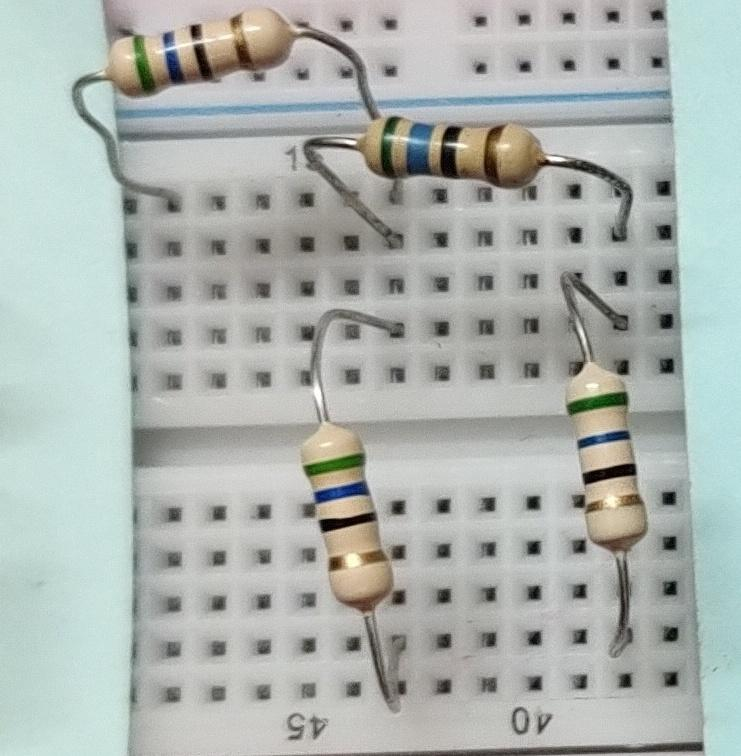resistor: (279, 405, 410, 628), (546, 350, 665, 556), (86, 6, 322, 106), (353, 105, 551, 200)
